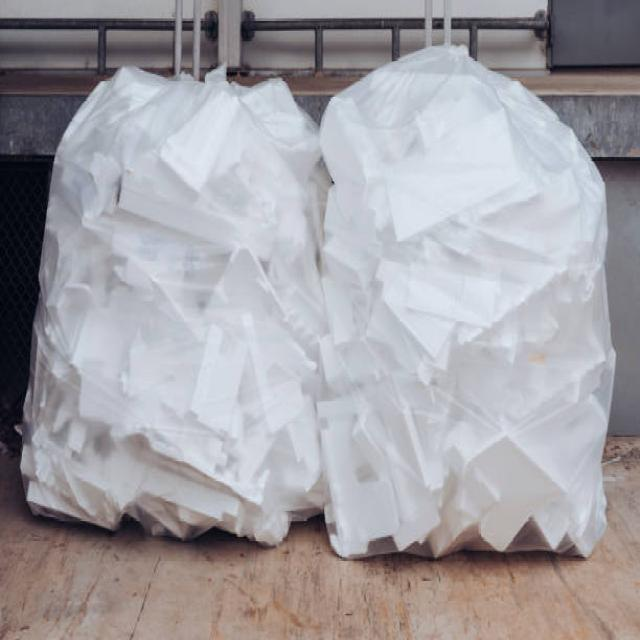trash: (16, 54, 640, 583), (317, 46, 630, 577), (28, 48, 319, 578)
